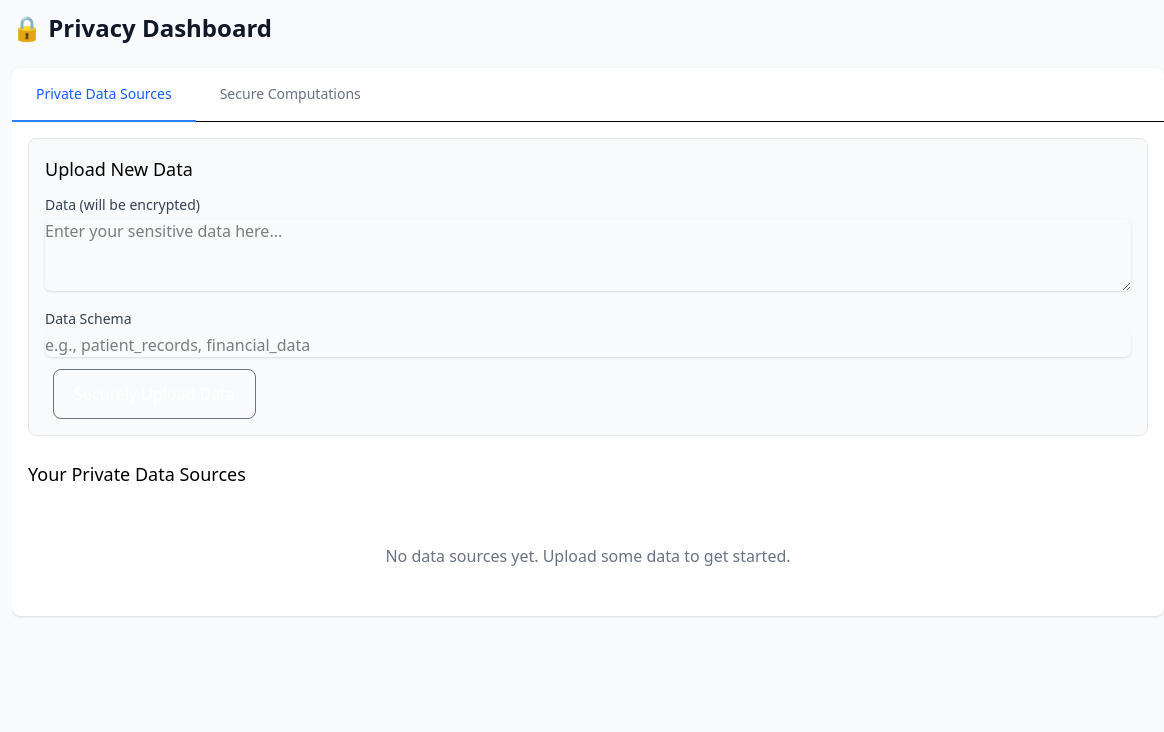
PrivacyDashboard Component › switches to computations tab and shows demo button
Expected: the button "Private Data Sources" is shown, [12,68,196,122]
Switch to computations tab
Click the button "Secure Computations": x=290, y=95 [196,68,385,122]
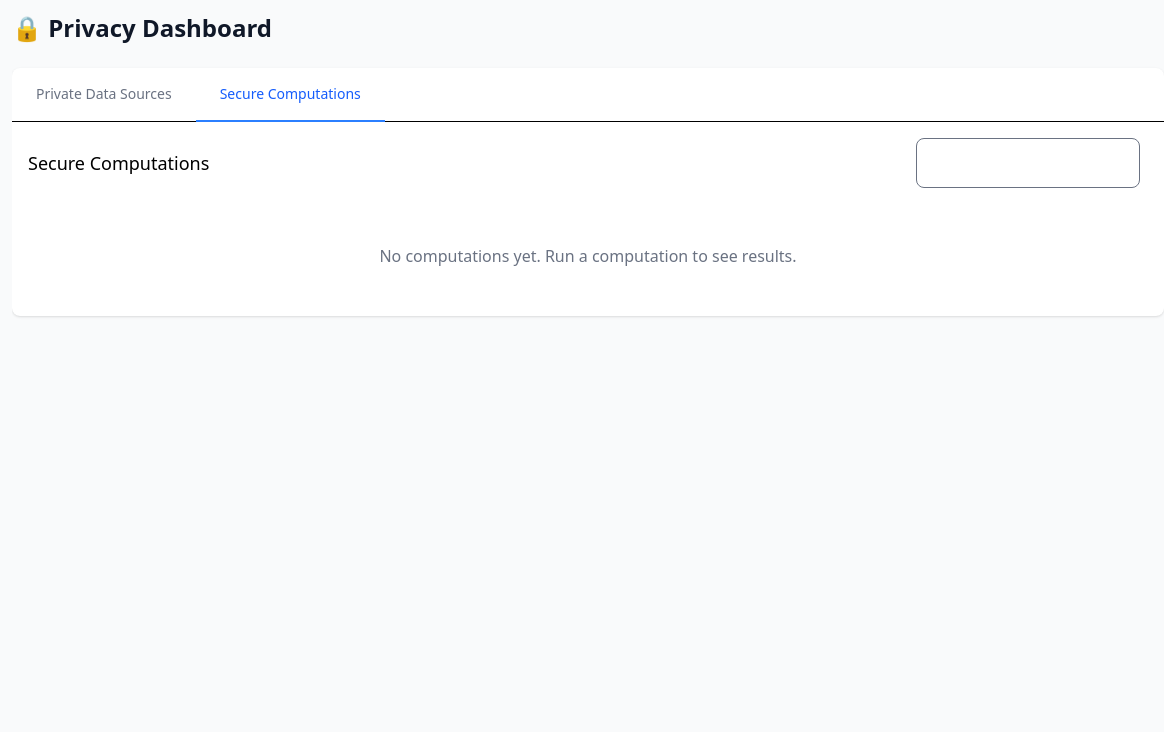
Result: the button "Run Demo Computation" is shown at [916,138,1140,188]
